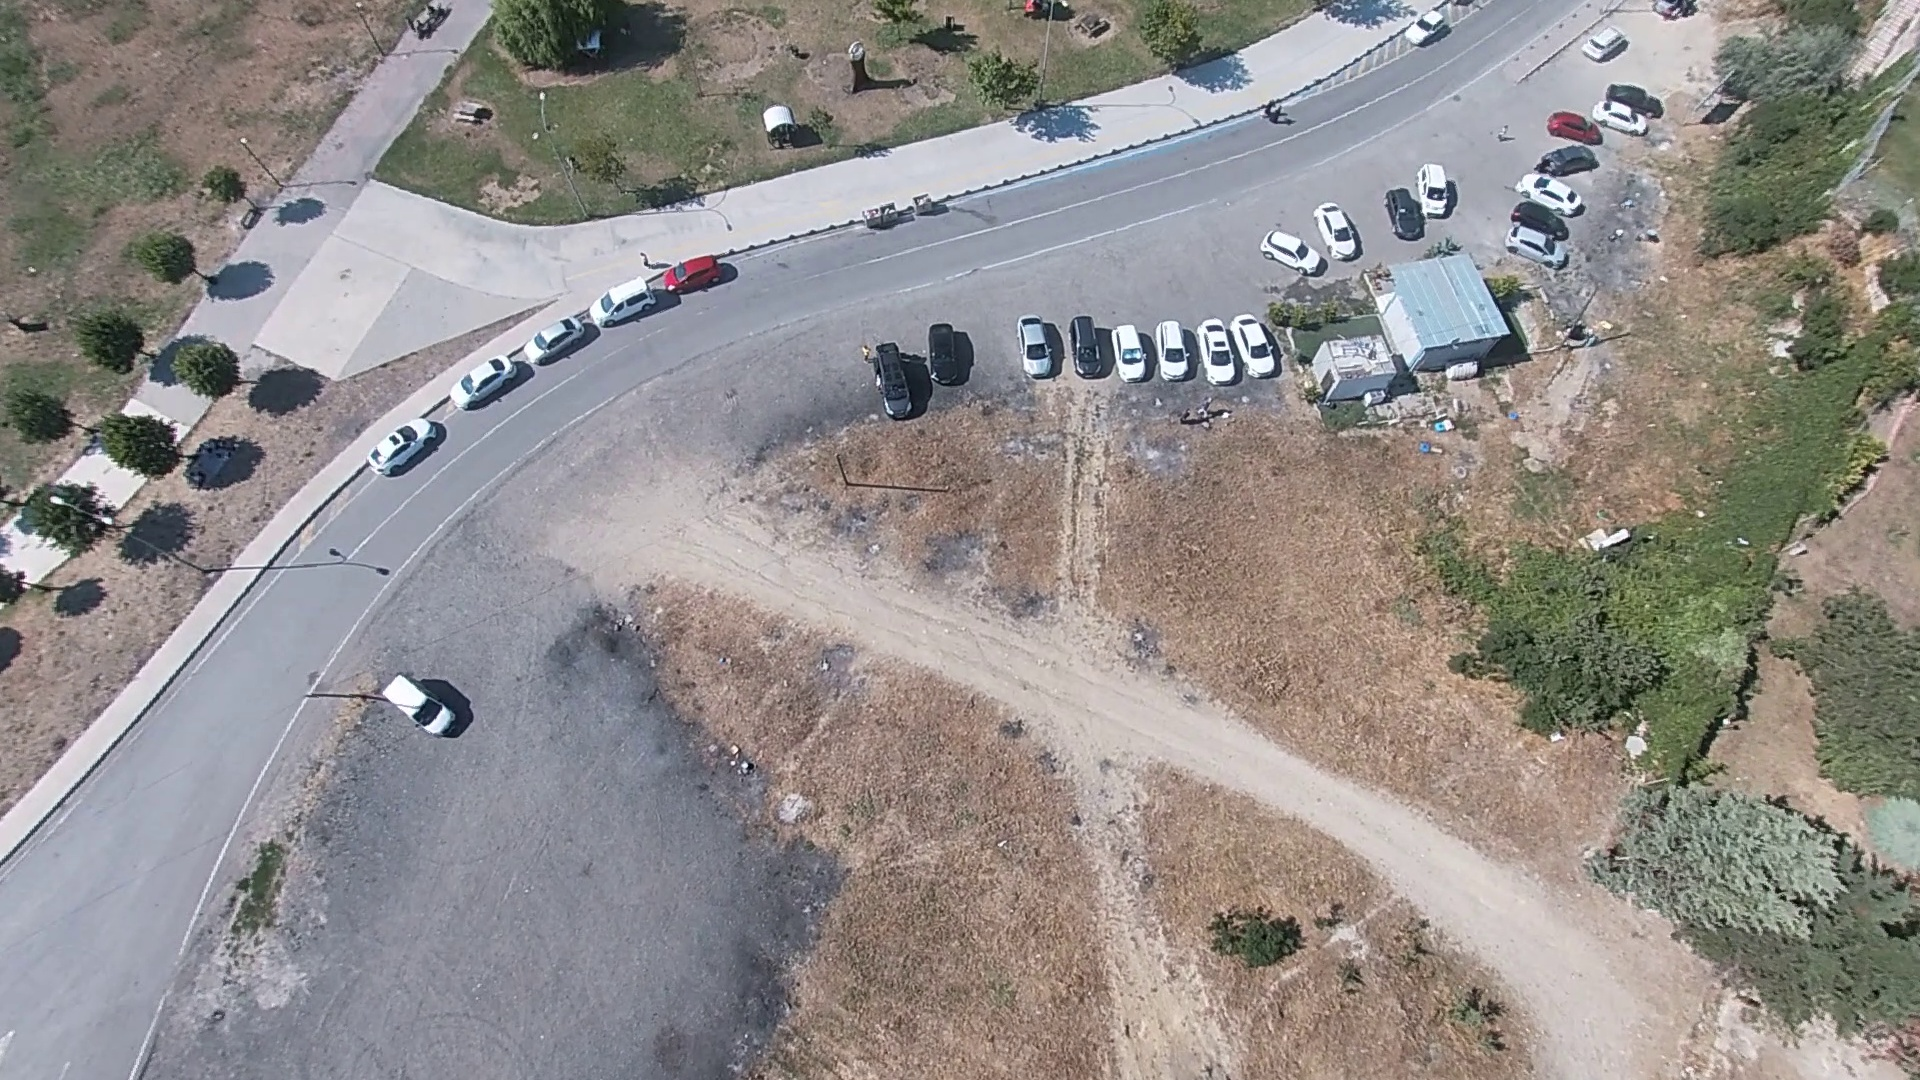arac: (585, 266, 676, 326), (384, 675, 465, 738), (367, 414, 443, 475), (456, 349, 533, 406), (521, 305, 596, 359), (1315, 196, 1364, 261), (1263, 225, 1323, 272), (1018, 307, 1059, 373), (1423, 162, 1458, 214), (1582, 24, 1629, 62), (1584, 524, 1633, 556)
